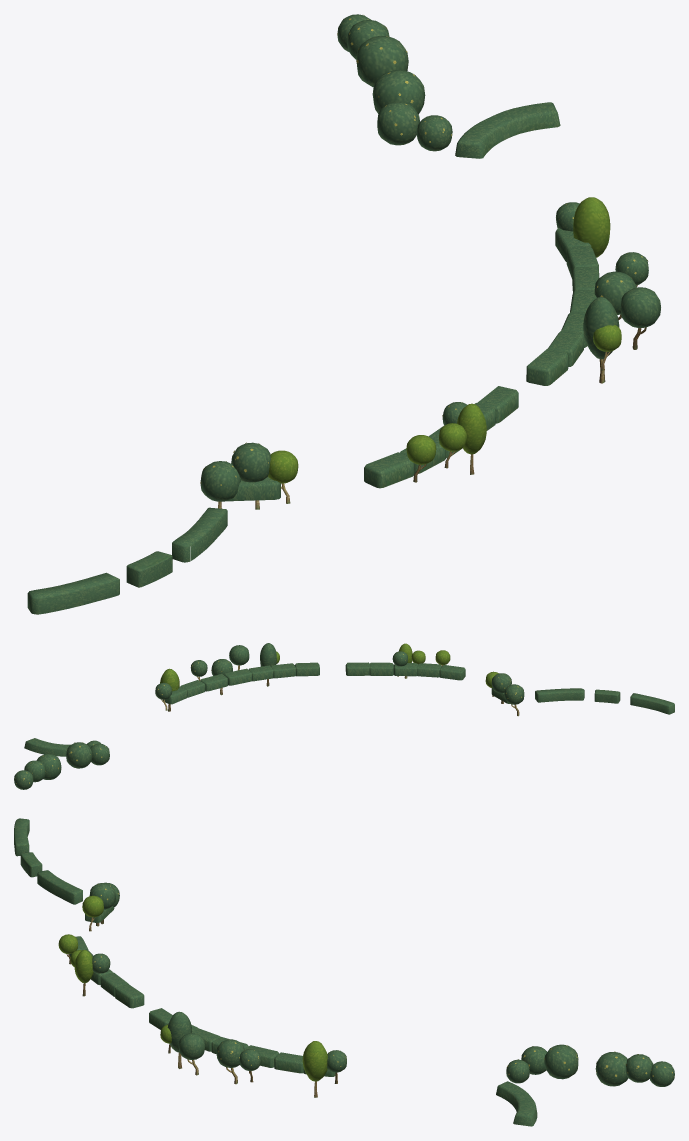
File: pref_sm_beach_bk_pointmol_leftmol_lv1.fbx
3 renders of one model, top to bottom at view 1: azimuth 30°, elevation 25°; view 2: azimuth 150°, elevation 25°; view 3: azimuth 270°, elevation 25°, orthographic. The views are drawn at different scales.
Visible parts, largest first — view 1: sm_beach_bk_pointmol_qiutree_L_lv1, sm_beach_bk_pointmol_longplant_L_lv1; view 2: sm_beach_bk_pointmol_longplant_L_lv1, sm_beach_bk_pointmol_qiutree_L_lv1; view 3: sm_beach_bk_pointmol_qiutree_L_lv1, sm_beach_bk_pointmol_longplant_L_lv1.
Boxes of the visible parts, x1,y1,x2,y2 form: sm_beach_bk_pointmol_qiutree_L_lv1: [200, 14, 660, 509]; sm_beach_bk_pointmol_longplant_L_lv1: [27, 102, 599, 614]; sm_beach_bk_pointmol_longplant_L_lv1: [24, 662, 674, 756]; sm_beach_bk_pointmol_qiutree_L_lv1: [14, 643, 524, 789]; sm_beach_bk_pointmol_qiutree_L_lv1: [58, 882, 674, 1097]; sm_beach_bk_pointmol_longplant_L_lv1: [14, 818, 537, 1126].
Size of the model in its own units: 80.95 by 7.34 by 77.28.
